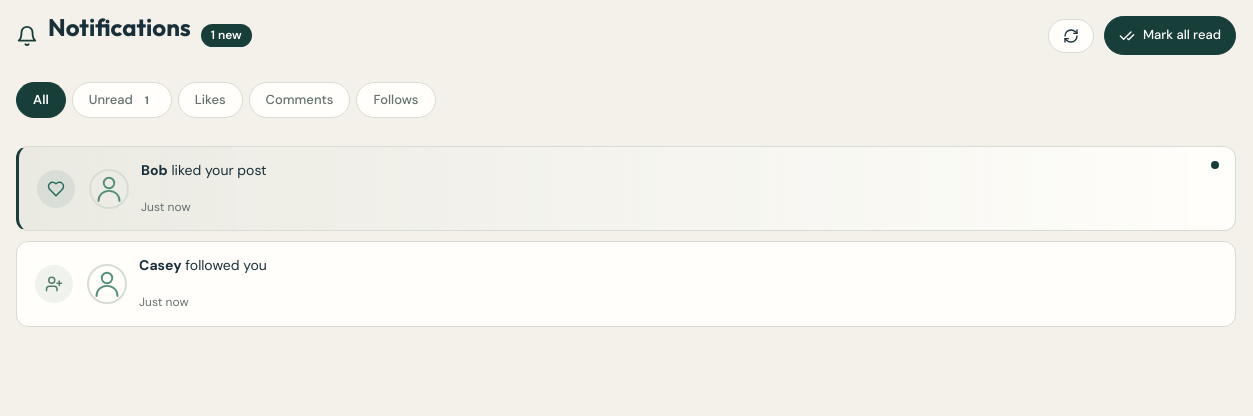
Test: notifications page › filters unread items and marks every notification as read
Check: the text "liked your post" is shown, box top-left (172, 161), bottom-right (267, 179)
Check: the text "1 new" is shown, box top-left (201, 24), bottom-right (252, 47)
Click the tab "Unread 1" at (122, 100), box top-left (72, 82), bottom-right (172, 118)
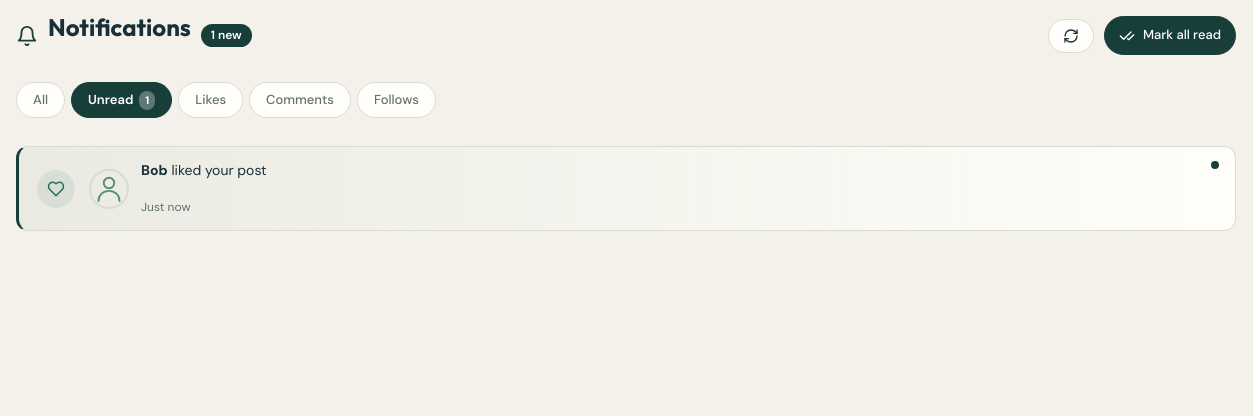
Check: the text "liked your post" is shown, box top-left (172, 161), bottom-right (267, 179)
Check: the text "followed you" is gone
Click the button "Mark all read" at (1170, 35), box top-left (1104, 16), bottom-right (1236, 54)
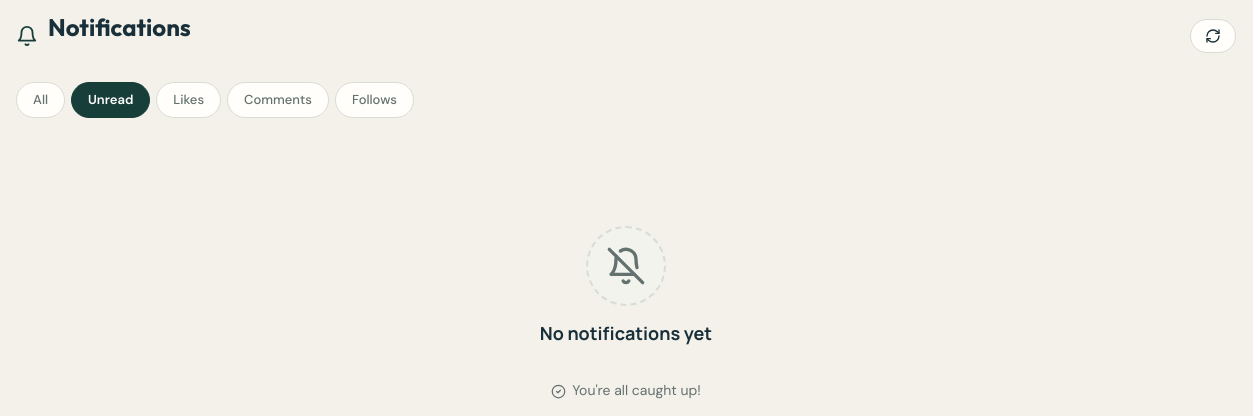
Check: the text "1 new" is gone
